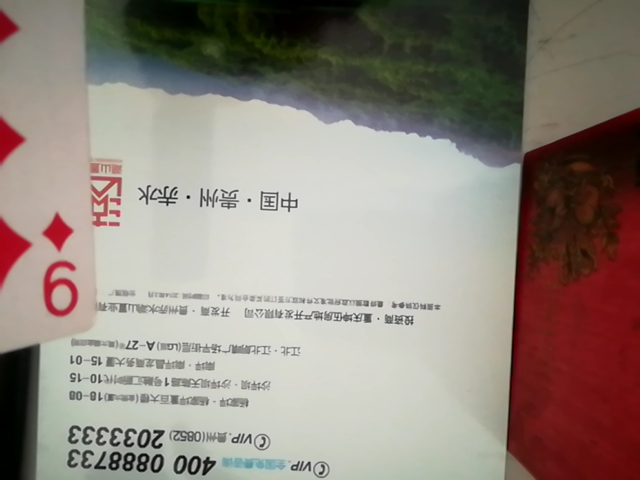fk 9: (0, 0, 116, 368)
